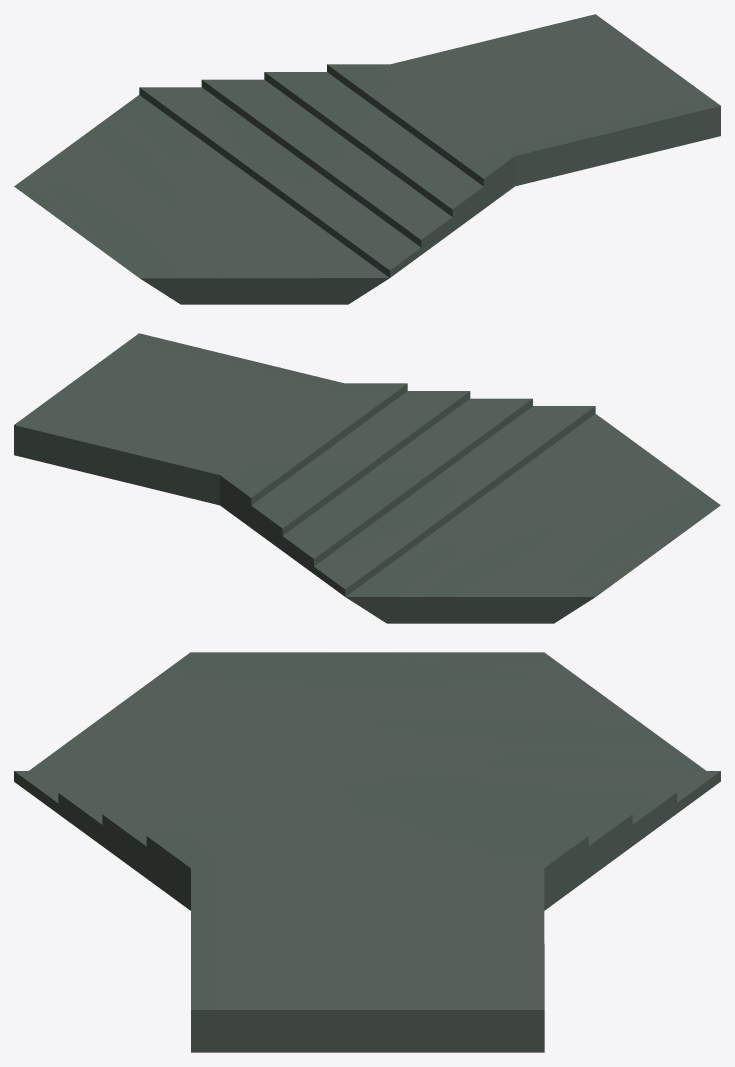
Rendered from lvlGOD_playspace.glb.
3 renders of one model, top to bottom at view 1: azimuth 30°, elevation 25°; view 2: azimuth 150°, elevation 25°; view 3: azimuth 270°, elevation 25°, orthographic. The views are drawn at different scales.
Visible parts, largest first — view 1: lvlGOD_playspace; view 2: lvlGOD_playspace; view 3: lvlGOD_playspace.
Part boxes in pixels (left/top/right/bottom): lvlGOD_playspace: left=14, top=14, right=720, bottom=304; lvlGOD_playspace: left=14, top=333, right=720, bottom=623; lvlGOD_playspace: left=14, top=652, right=720, bottom=1052.
Bounding box in the file's own units: 80.45 × 11.56 × 60.
1 material, 1 textured.
